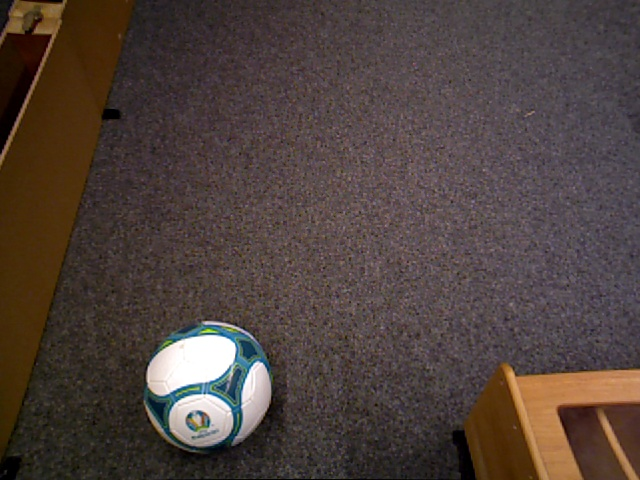kick: (143, 319, 272, 453)
